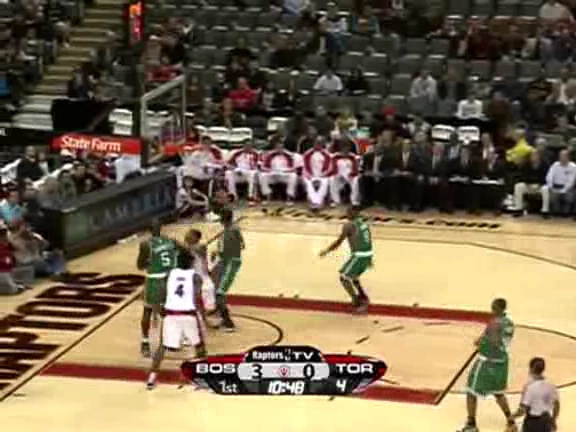person: (346, 208, 380, 289), (345, 208, 379, 289), (347, 208, 381, 289), (346, 207, 380, 288), (346, 209, 380, 290)
target_negative: (441, 72, 562, 380), (206, 263, 530, 331), (262, 307, 433, 354), (442, 391, 551, 400), (556, 330, 563, 345), (564, 294, 569, 303)
